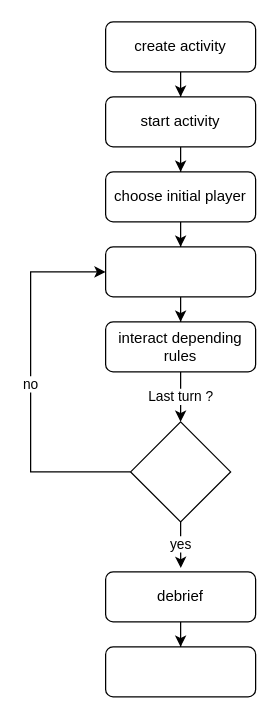
Image size: 278x719. Some labels were removed from this diagram. The centre of each missing label's shape, as x and y in pixels:
"activity end" goes at point (180, 671).
"give turn to {player}" goes at point (180, 271).
